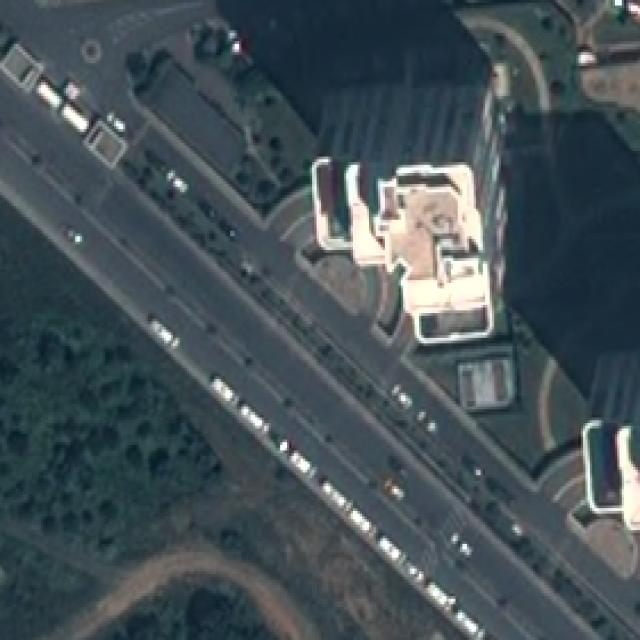Batiment: (311, 157, 494, 343), (582, 421, 640, 531)
